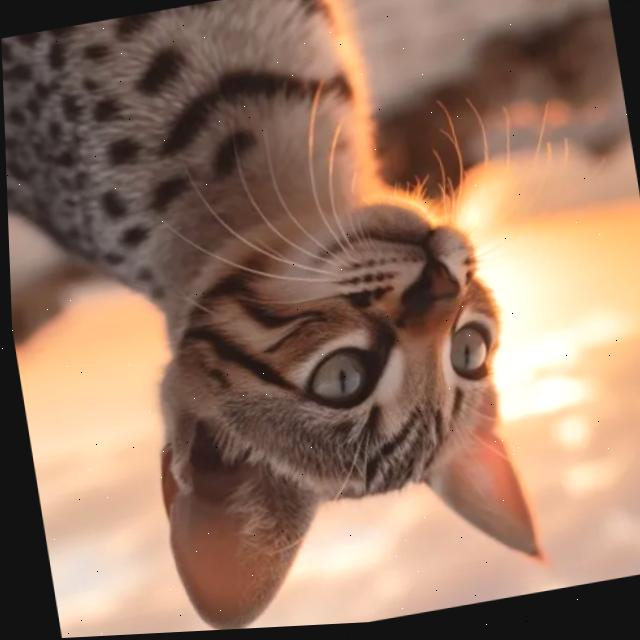Savannah: (0, 0, 552, 640)
